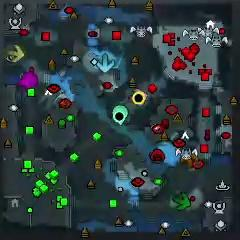p2: (113, 105, 128, 126)
p2Clone: (113, 111, 126, 123)
p3: (18, 72, 39, 89)
p4Clone: (132, 92, 145, 105)
x1: (129, 88, 148, 101)
x2: (7, 44, 25, 63)
x3: (96, 54, 115, 73)
x4: (173, 192, 191, 211)
x5: (180, 152, 198, 167)
